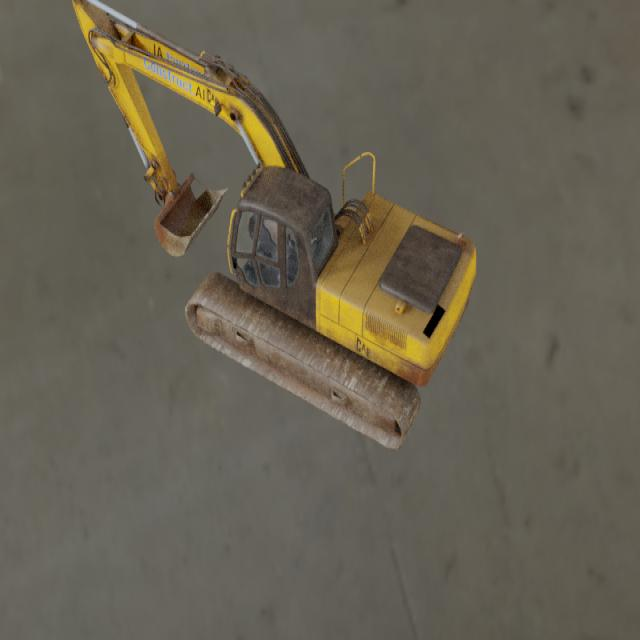excavator: (71, 0, 476, 452)
